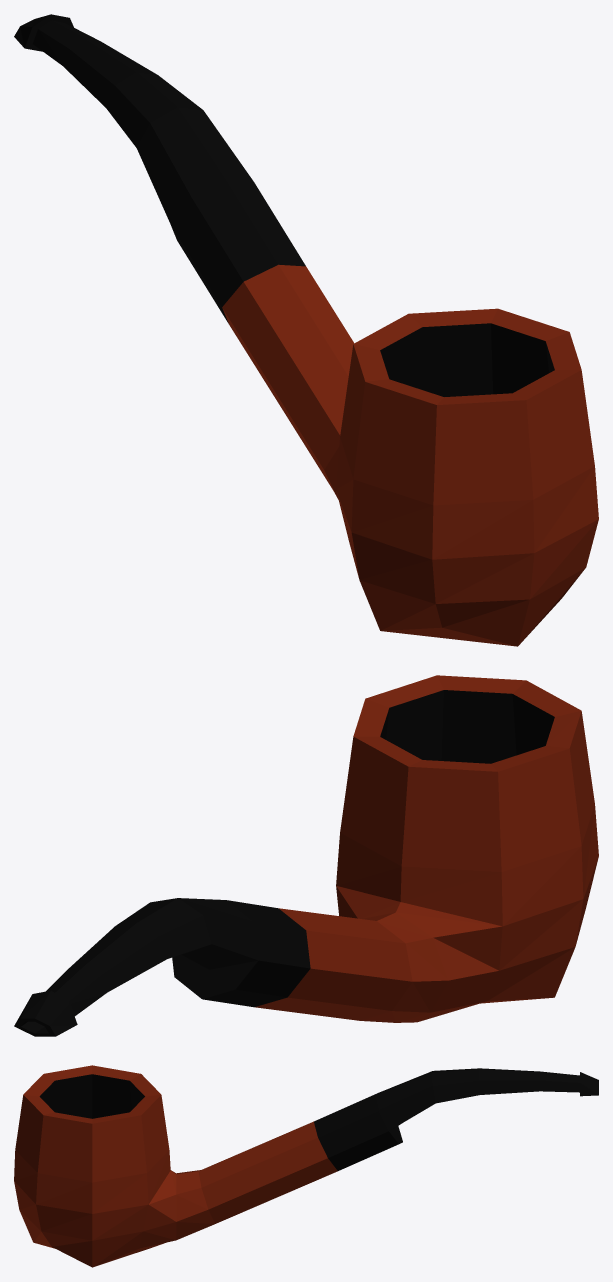
File: pipe.obj
3 views of the same model, one above another, from view 1: azimuth 30°, elevation 25°; view 2: azimuth 150°, elevation 25°; view 3: azimuth 270°, elevation 25° (orthographic). The views are drawn at different scales.
Bounding box in the file's own units: 1.08 × 1.44 × 4.01.
